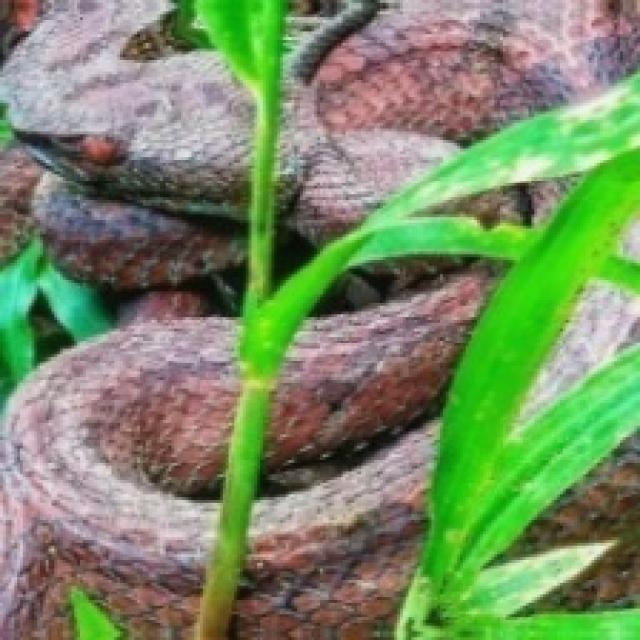philippine pitviper: (0, 0, 252, 640), (232, 261, 500, 639), (281, 0, 640, 277), (510, 435, 640, 609), (524, 285, 640, 414), (440, 181, 567, 225)
